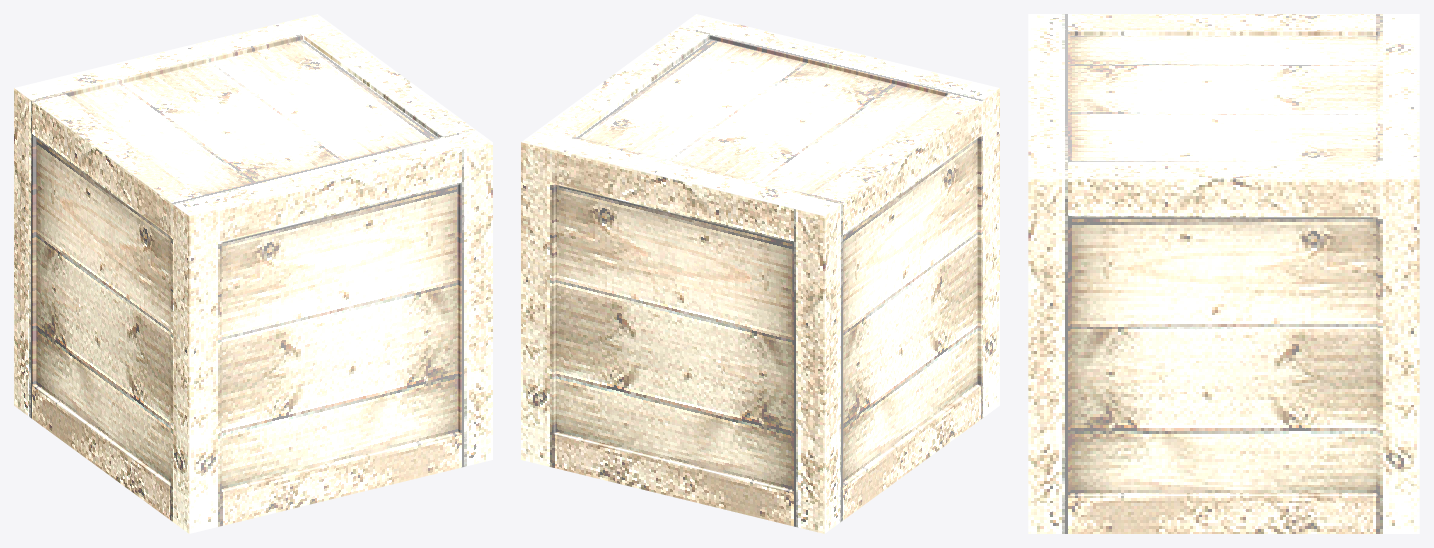
The model's file is crate_packed.glb.
3 renders of one model, left to right at view 1: azimuth 30°, elevation 25°; view 2: azimuth 150°, elevation 25°; view 3: azimuth 270°, elevation 25°, orthographic. The views are drawn at different scales.
Parts seen in each view (by area): view 1: crate; view 2: crate; view 3: crate.
Boxes of the visible parts, x1,y1,x2,y2 form: crate: [14, 14, 492, 533]; crate: [521, 14, 999, 533]; crate: [1028, 14, 1419, 533].
Bounding box in the file's own units: 1.2 × 1.2 × 1.2.
